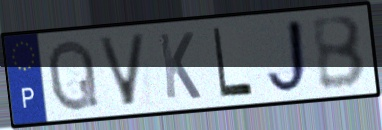B: (309, 13, 369, 93)
J: (264, 16, 314, 97)
K: (156, 30, 203, 102)
L: (210, 25, 255, 99)
Q: (46, 36, 102, 115)
V: (95, 32, 150, 109)
